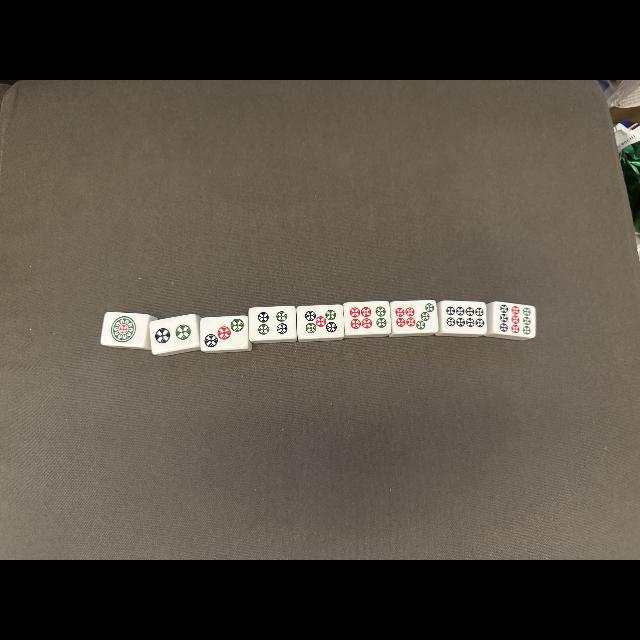d1: (104, 314, 146, 346)
d2: (151, 318, 197, 350)
d3: (200, 316, 248, 349)
d4: (250, 307, 296, 339)
d5: (298, 304, 342, 336)
d6: (346, 302, 390, 334)
d7: (392, 300, 436, 332)
d8: (441, 302, 487, 332)
d9: (495, 304, 535, 336)
